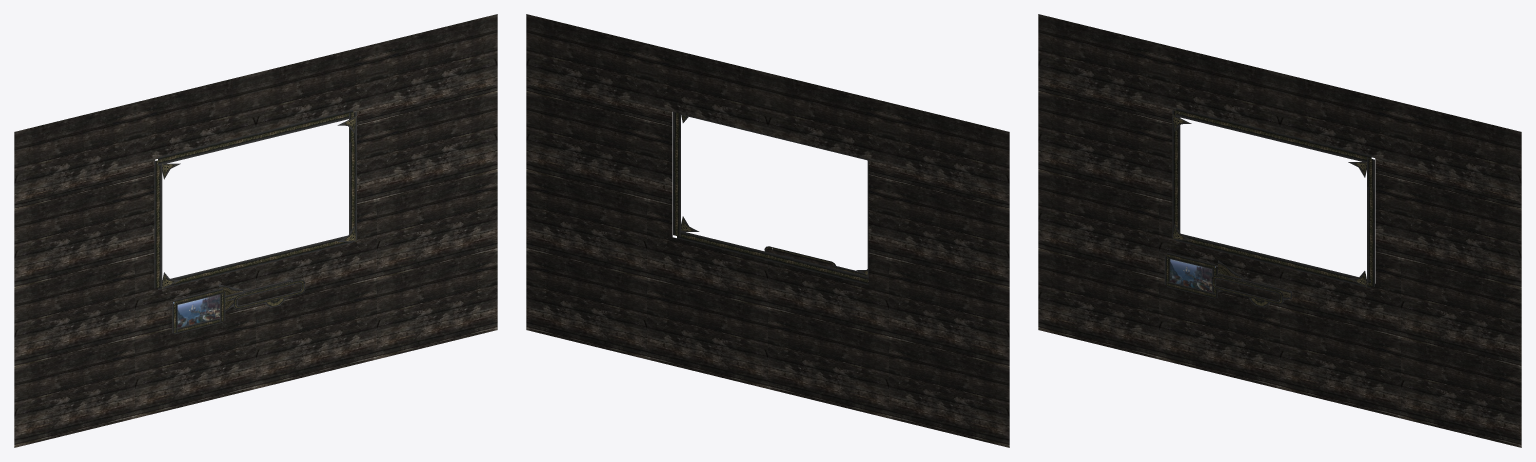
The model's file is loading_screen_interstitial.fbx.
The picture shows the model from 3 angles, left to right: view 1: azimuth 30°, elevation 25°; view 2: azimuth 150°, elevation 25°; view 3: azimuth 330°, elevation 25°; orthographic projection.
Parts seen in each view (by area): view 1: wood_panel, frame.001, loadimage, title_frame.001, corner_ornaments, title_bg; view 2: wood_panel, frame.001; view 3: wood_panel, frame.001, loadimage, title_frame.001, corner_ornaments, title_bg.
Part boxes in pixels (x1,y1,x2,y2): wood_panel: (14, 14, 497, 447); frame.001: (154, 110, 356, 289); loadimage: (173, 294, 219, 327); title_frame.001: (233, 280, 305, 309); corner_ornaments: (161, 116, 356, 288); title_bg: (237, 283, 301, 305); wood_panel: (526, 14, 1009, 447); frame.001: (673, 112, 868, 284); wood_panel: (1038, 14, 1521, 447); frame.001: (1172, 108, 1374, 288); loadimage: (1170, 259, 1215, 291); title_frame.001: (1211, 275, 1283, 304); corner_ornaments: (1172, 115, 1367, 287); title_bg: (1215, 279, 1279, 301).
Size of the model in its own units: 2477 by 1547 by 205.
2 materials, 2 textured.
